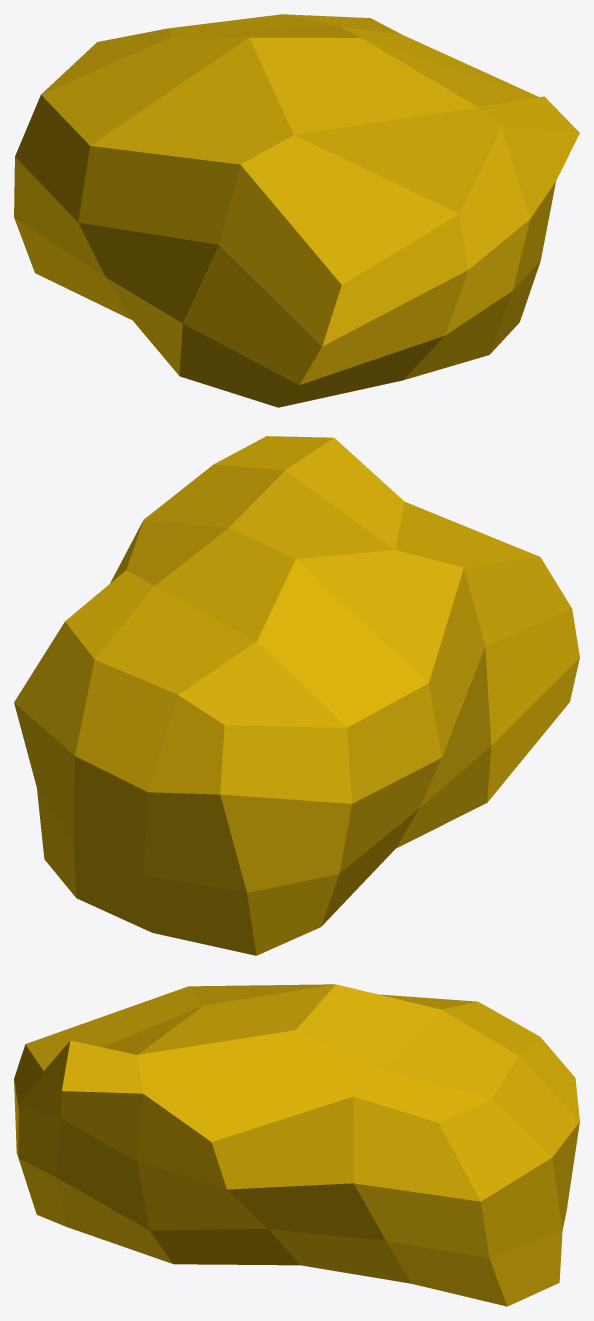
File: crude_gold_bar.fbx
The picture shows the model from 3 angles, top to bottom: view 1: azimuth 30°, elevation 25°; view 2: azimuth 150°, elevation 25°; view 3: azimuth 270°, elevation 25°; orthographic projection. The views are drawn at different scales.
Visible parts, largest first — view 1: crude_gold_bar; view 2: crude_gold_bar; view 3: crude_gold_bar.
Boxes of the visible parts, left/top/right/bottom form: crude_gold_bar: left=14, top=14, right=579, bottom=407; crude_gold_bar: left=14, top=436, right=579, bottom=955; crude_gold_bar: left=14, top=984, right=579, bottom=1306.
Size of the model in its own units: 317 by 238 by 447.
